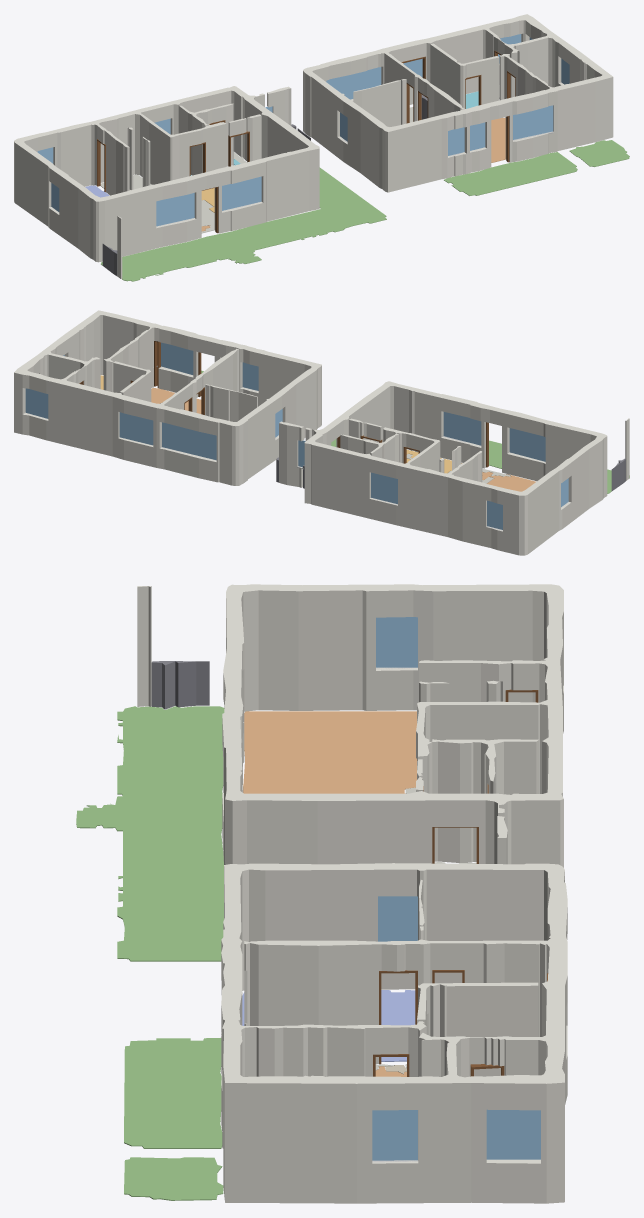
3 views of the same model, one above another, from view 1: azimuth 30°, elevation 25°; view 2: azimuth 150°, elevation 25°; view 3: azimuth 270°, elevation 25° (orthographic). The views are drawn at different scales.
Visible parts, largest first — view 1: walls, floor_2_Outdoor, floor_1_Outdoor, window_26, floor_0_Outdoor, window_25, window_24, window_14, floor_6_Living_Room, railings, floor_21_Undefined, window_27 (+1 smaller); view 2: walls, window_14, window_25, window_24, window_15, window_26, window_18, window_17, floor_7_Living_Room, floor_2_Outdoor, railings, window_27 (+2 smaller); view 3: walls, floor_2_Outdoor, floor_7_Living_Room, floor_1_Outdoor, floor_0_Outdoor, window_19, railings, window_23, window_21, window_22, floor_9_Bed_Room.
Boxes of the visible parts, x1=… form: walls: x1=14, y1=14, x2=613, y2=278; floor_2_Outdoor: x1=101, y1=167, x2=386, y2=281; floor_1_Outdoor: x1=444, y1=152, x2=577, y2=195; window_26: x1=513, y1=105, x2=553, y2=139; floor_0_Outdoor: x1=569, y1=140, x2=629, y2=166; window_25: x1=222, y1=176, x2=261, y2=210; window_24: x1=156, y1=193, x2=194, y2=226; window_14: x1=326, y1=67, x2=381, y2=99; floor_6_Living_Room: x1=491, y1=117, x2=505, y2=162; railings: x1=102, y1=94, x2=427, y2=275; floor_21_Undefined: x1=100, y1=174, x2=214, y2=233; window_27: x1=448, y1=127, x2=464, y2=155; walls: x1=14, y1=310, x2=629, y2=555; window_14: x1=162, y1=422, x2=216, y2=460; window_25: x1=443, y1=412, x2=481, y2=445; window_24: x1=509, y1=428, x2=545, y2=461; window_15: x1=119, y1=412, x2=153, y2=445; window_26: x1=161, y1=342, x2=193, y2=374; window_18: x1=371, y1=472, x2=397, y2=504; window_17: x1=25, y1=388, x2=48, y2=418; floor_7_Living_Room: x1=482, y1=472, x2=535, y2=491; floor_2_Outdoor: x1=331, y1=439, x2=629, y2=493; railings: x1=276, y1=457, x2=625, y2=491; window_27: x1=242, y1=362, x2=258, y2=390; walls: x1=137, y1=584, x2=567, y2=1203; floor_2_Outdoor: x1=76, y1=706, x2=224, y2=961; floor_7_Living_Room: x1=243, y1=711, x2=416, y2=793; floor_1_Outdoor: x1=124, y1=1038, x2=222, y2=1148; floor_0_Outdoor: x1=124, y1=1157, x2=223, y2=1200; window_19: x1=486, y1=1109, x2=540, y2=1159; railings: x1=151, y1=661, x2=209, y2=709; window_23: x1=372, y1=1110, x2=417, y2=1160; window_21: x1=376, y1=617, x2=417, y2=667; window_22: x1=378, y1=896, x2=417, y2=941; floor_9_Bed_Room: x1=242, y1=990, x2=415, y2=1061.
Size of the model in its own units: 24.14 by 2.72 by 10.04.
